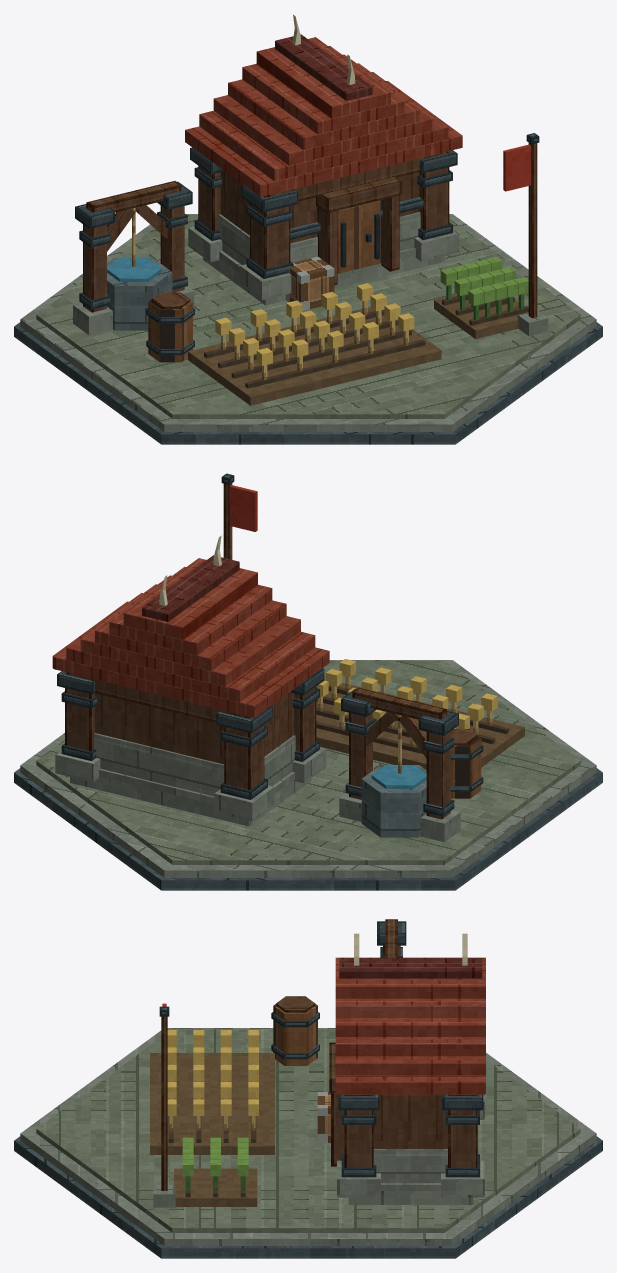
The model's file is orc_farm_hex_v1.glb.
3 views of the same model, one above another, from view 1: azimuth 30°, elevation 25°; view 2: azimuth 150°, elevation 25°; view 3: azimuth 270°, elevation 25° (orthographic).
Visible parts, largest first — view 1: Orc_Farm_Hex_V1_Foundation, Orc_Farm_Hex_V1_Roofs, Orc_Farm_Hex_V1_Courtyard, Orc_Farm_Hex_V1_Structure, Orc_Farm_Hex_V1_Details, Orc_Farm_Hex_V1_Hall, Orc_Farm_Hex_V1_Focus, Orc_Farm_Hex_V1_Faction; view 2: Orc_Farm_Hex_V1_Foundation, Orc_Farm_Hex_V1_Roofs, Orc_Farm_Hex_V1_Structure, Orc_Farm_Hex_V1_Hall, Orc_Farm_Hex_V1_Courtyard, Orc_Farm_Hex_V1_Details, Orc_Farm_Hex_V1_Focus, Orc_Farm_Hex_V1_Faction; view 3: Orc_Farm_Hex_V1_Foundation, Orc_Farm_Hex_V1_Roofs, Orc_Farm_Hex_V1_Courtyard, Orc_Farm_Hex_V1_Hall, Orc_Farm_Hex_V1_Structure, Orc_Farm_Hex_V1_Details, Orc_Farm_Hex_V1_Focus.
Boxes of the visible parts, x1=… form: Orc_Farm_Hex_V1_Foundation: x1=14, y1=214, x2=602, y2=444; Orc_Farm_Hex_V1_Roofs: x1=185, y1=34, x2=462, y2=196; Orc_Farm_Hex_V1_Courtyard: x1=188, y1=257, x2=528, y2=405; Orc_Farm_Hex_V1_Structure: x1=73, y1=147, x2=459, y2=335; Orc_Farm_Hex_V1_Details: x1=79, y1=14, x2=548, y2=362; Orc_Farm_Hex_V1_Hall: x1=203, y1=170, x2=444, y2=305; Orc_Farm_Hex_V1_Focus: x1=86, y1=181, x2=181, y2=330; Orc_Farm_Hex_V1_Faction: x1=503, y1=144, x2=531, y2=191; Orc_Farm_Hex_V1_Foundation: x1=14, y1=660, x2=602, y2=890; Orc_Farm_Hex_V1_Roofs: x1=52, y1=555, x2=329, y2=717; Orc_Farm_Hex_V1_Structure: x1=55, y1=668, x2=460, y2=842; Orc_Farm_Hex_V1_Hall: x1=70, y1=691, x2=311, y2=826; Orc_Farm_Hex_V1_Courtyard: x1=316, y1=659, x2=524, y2=769; Orc_Farm_Hex_V1_Details: x1=61, y1=473, x2=483, y2=816; Orc_Farm_Hex_V1_Focus: x1=352, y1=687, x2=447, y2=837; Orc_Farm_Hex_V1_Faction: x1=229, y1=485, x2=257, y2=531; Orc_Farm_Hex_V1_Foundation: x1=14, y1=1028, x2=602, y2=1258; Orc_Farm_Hex_V1_Roofs: x1=335, y1=957, x2=485, y2=1094; Orc_Farm_Hex_V1_Courtyard: x1=150, y1=1030, x2=274, y2=1206; Orc_Farm_Hex_V1_Hall: x1=348, y1=1094, x2=473, y2=1204; Orc_Farm_Hex_V1_Structure: x1=329, y1=921, x2=484, y2=1197; Orc_Farm_Hex_V1_Details: x1=153, y1=933, x2=479, y2=1207; Orc_Farm_Hex_V1_Focus: x1=385, y1=919, x2=397, y2=957.
Size of the model in its own units: 1.59 by 0.856 by 1.84.
1 material, 1 textured.
